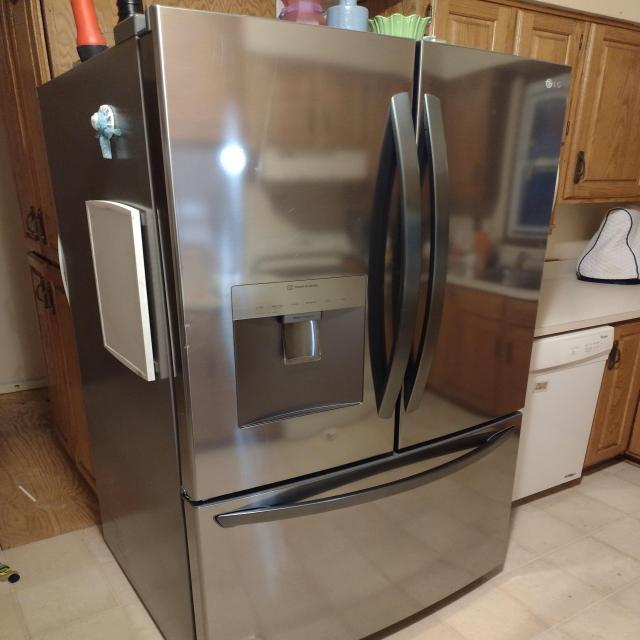dents: (311, 424, 351, 455)
